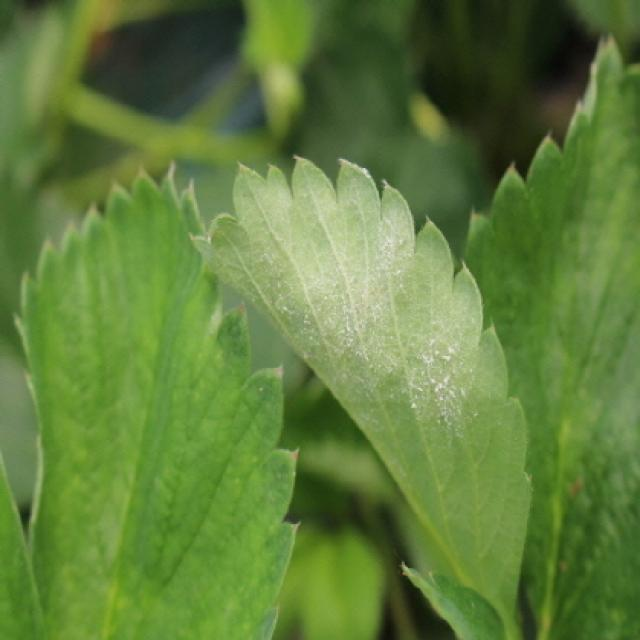powdery_mildew_leaf: (188, 152, 535, 633)
